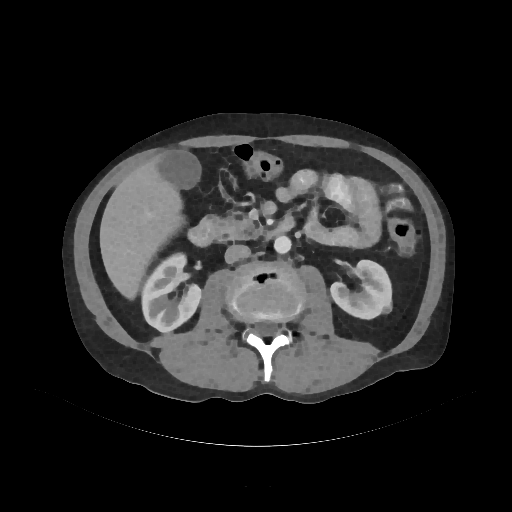Lesion: (379, 299, 396, 316)
